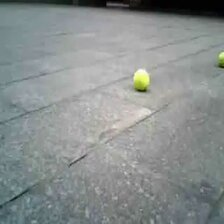tennis: (134, 69, 149, 89)
